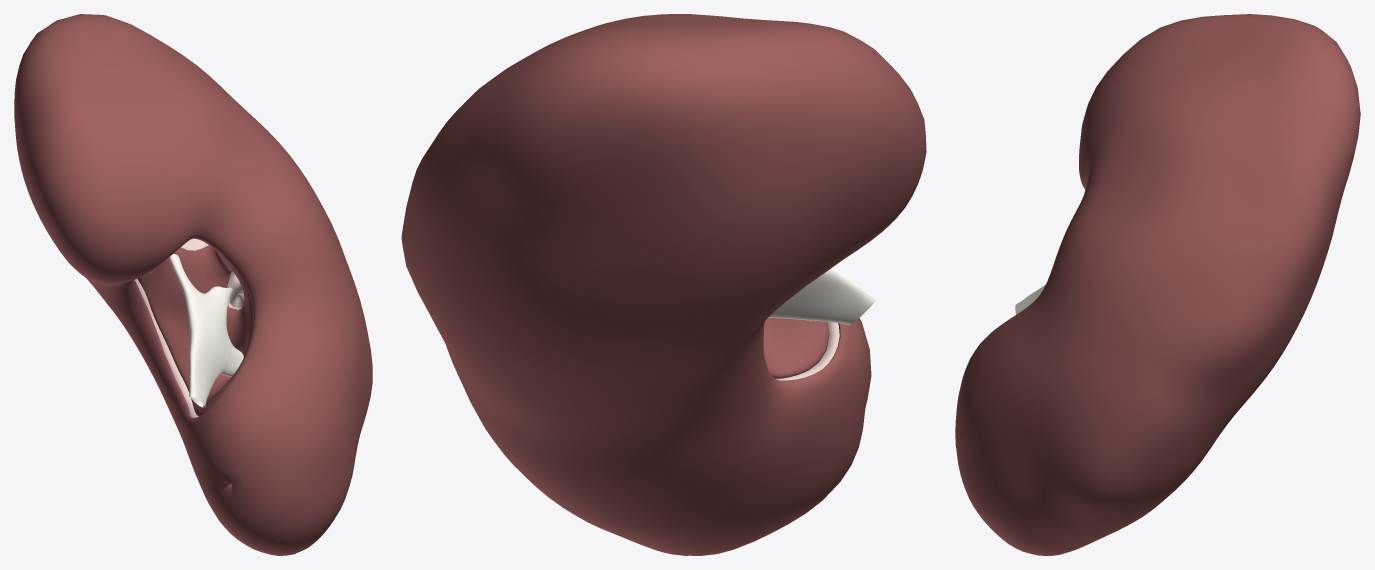
File: VH_M_Kidney_L.glb
3 renders of one model, left to right at view 1: azimuth 30°, elevation 25°; view 2: azimuth 150°, elevation 25°; view 3: azimuth 270°, elevation 25°, orthographic. The views are drawn at different scales.
Parts seen in each view (by area): view 1: VH_M_kidney_capsule_L, VH_M_hilum_of_kidney_L, VH_M_renal_pelvis_L, VH_M_outer_cortex_of_kidney_L, VH_M_renal_column_L, VH_M_major_calyx_L_a; view 2: VH_M_kidney_capsule_L, VH_M_hilum_of_kidney_L, VH_M_renal_pelvis_L, VH_M_outer_cortex_of_kidney_L; view 3: VH_M_kidney_capsule_L.
Boxes of the visible parts, <box> form: VH_M_kidney_capsule_L: <box>14,14,372,555</box>; VH_M_hilum_of_kidney_L: <box>137,238,253,416</box>; VH_M_renal_pelvis_L: <box>184,290,229,407</box>; VH_M_outer_cortex_of_kidney_L: <box>135,278,198,417</box>; VH_M_renal_column_L: <box>181,238,244,309</box>; VH_M_major_calyx_L_a: <box>169,254,197,294</box>; VH_M_kidney_capsule_L: <box>401,14,926,555</box>; VH_M_hilum_of_kidney_L: <box>763,318,829,378</box>; VH_M_renal_pelvis_L: <box>768,269,875,325</box>; VH_M_outer_cortex_of_kidney_L: <box>776,321,839,380</box>; VH_M_kidney_capsule_L: <box>955,14,1360,555</box>.
Bounding box in the file's own units: 0.0757 × 0.1065 × 0.0824.
